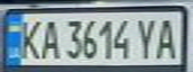1: (97, 16, 118, 60)
3: (63, 16, 84, 60)
4: (112, 16, 136, 60)
6: (78, 17, 100, 60)
A: (151, 15, 181, 60), (36, 16, 60, 60)
K: (15, 16, 45, 61)
Y: (133, 15, 160, 60)
